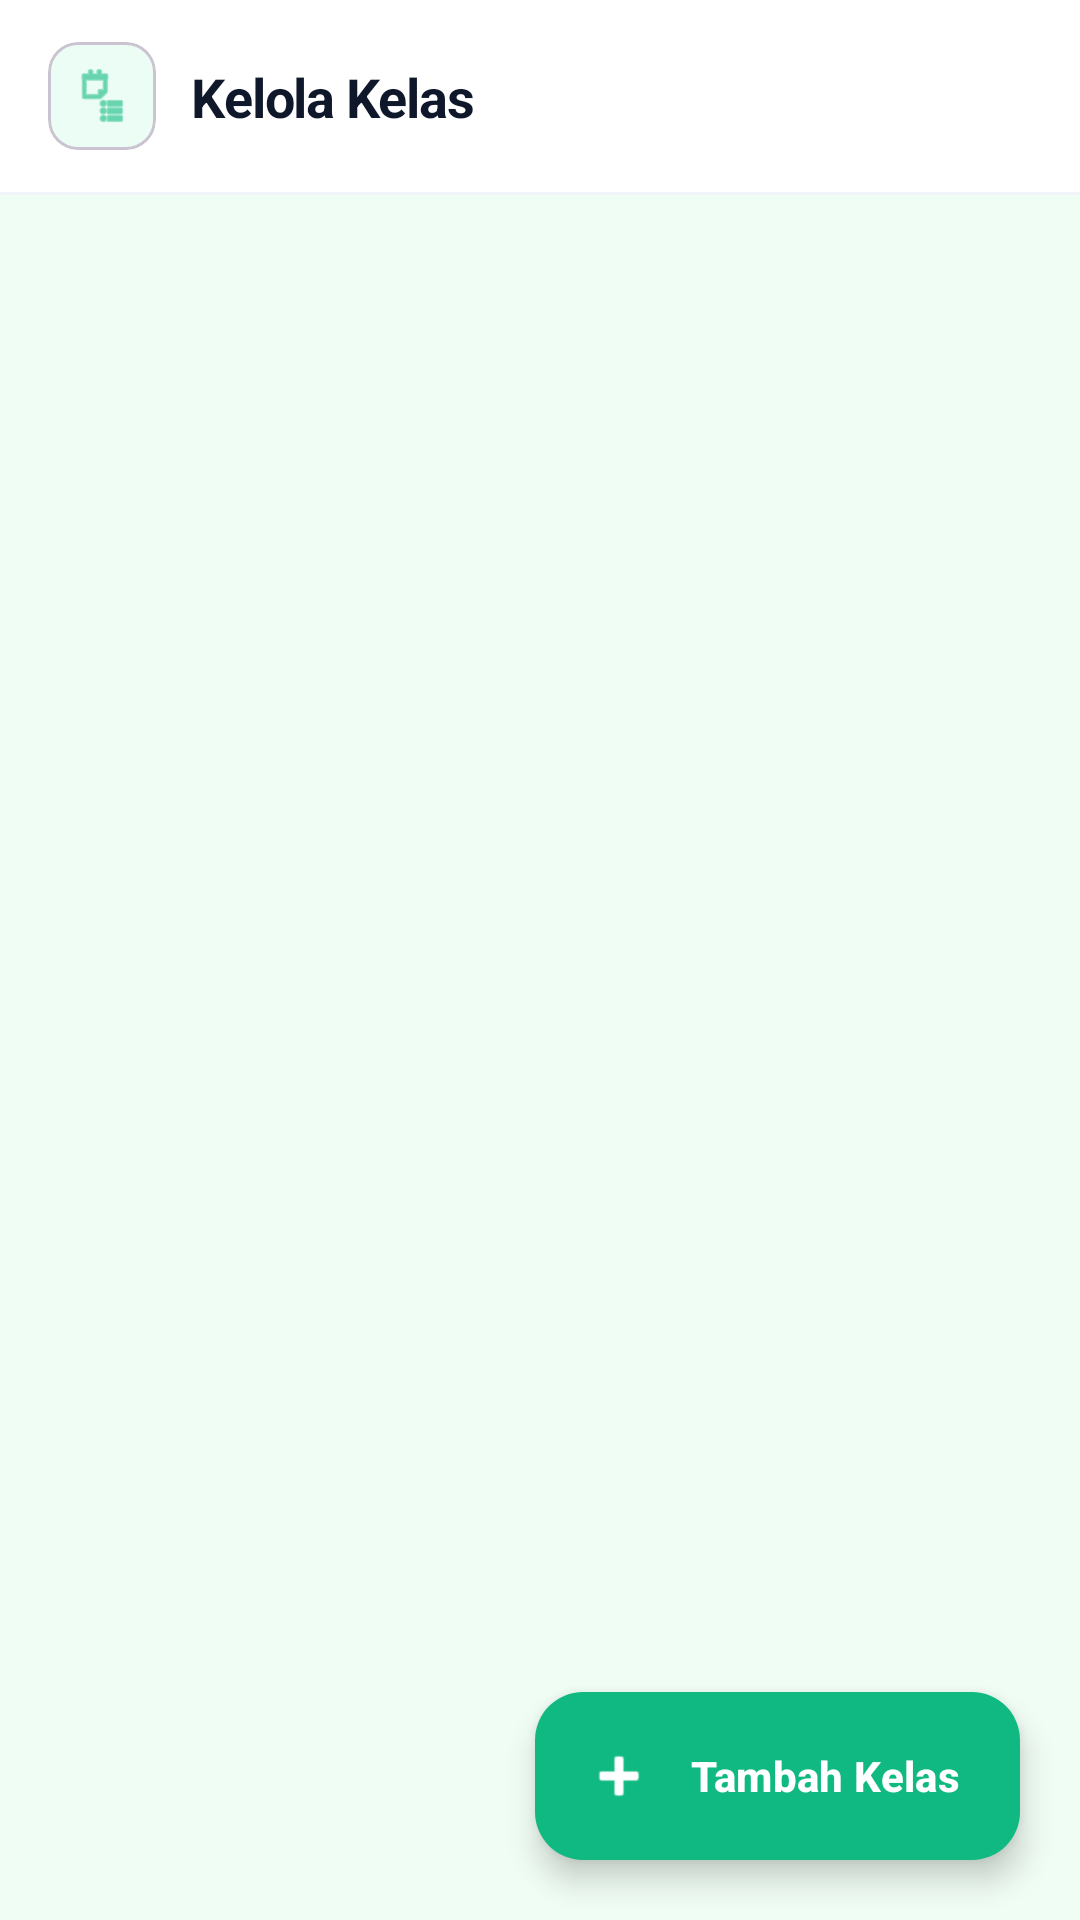

Icons on this 1080 x 1920 Android screen, each with its box as bbox=[x1, y1, x2, y2]:
agenda: bbox=[81, 69, 123, 122]
